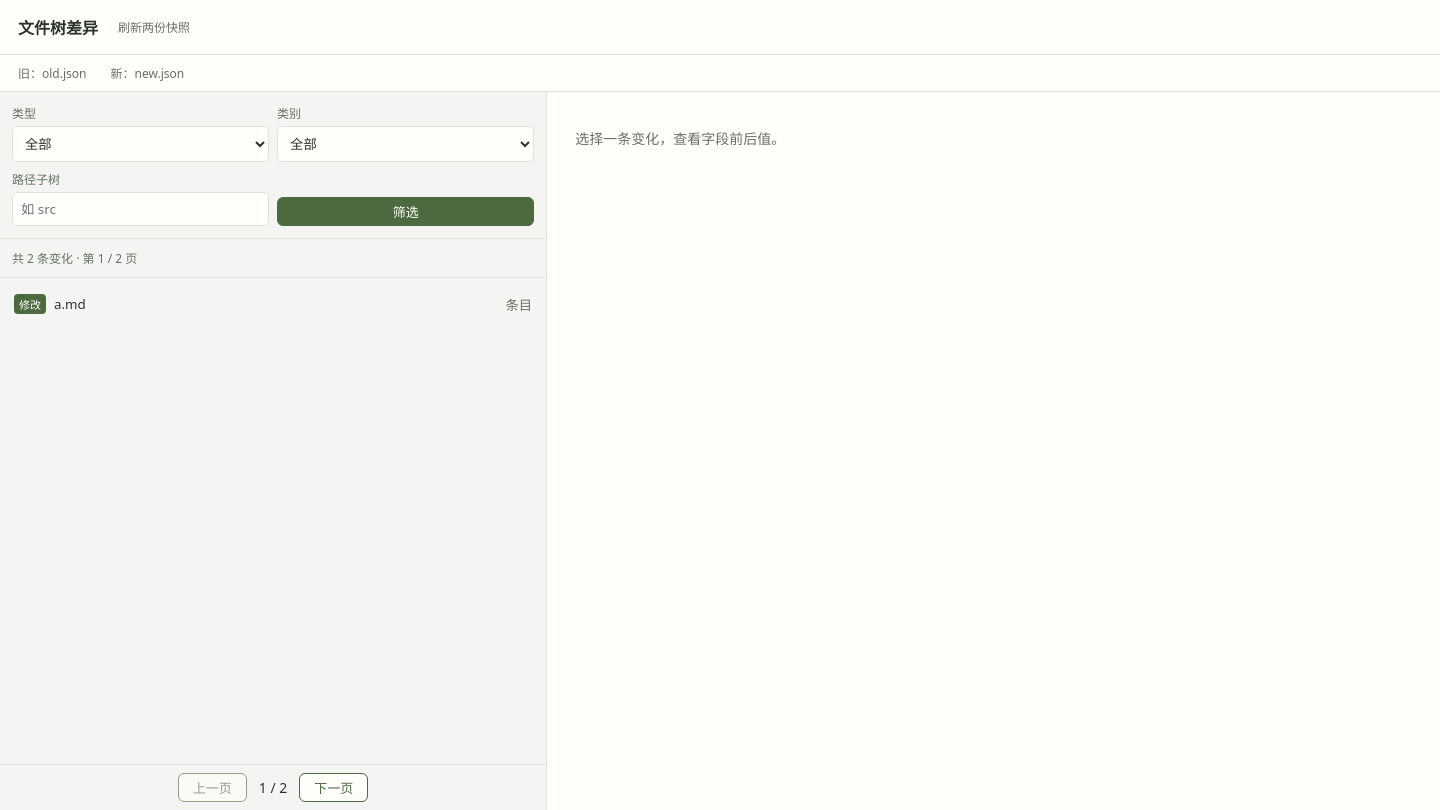
Test case: DiffViewer › does not leave stale rows visible when a filtered request fails
Expected: the button "修改 a.md 条目" is shown, [6,284,540,324]
Select "新增" in the dropdown named "变化类型" at (141, 144), box [12,126,269,162]
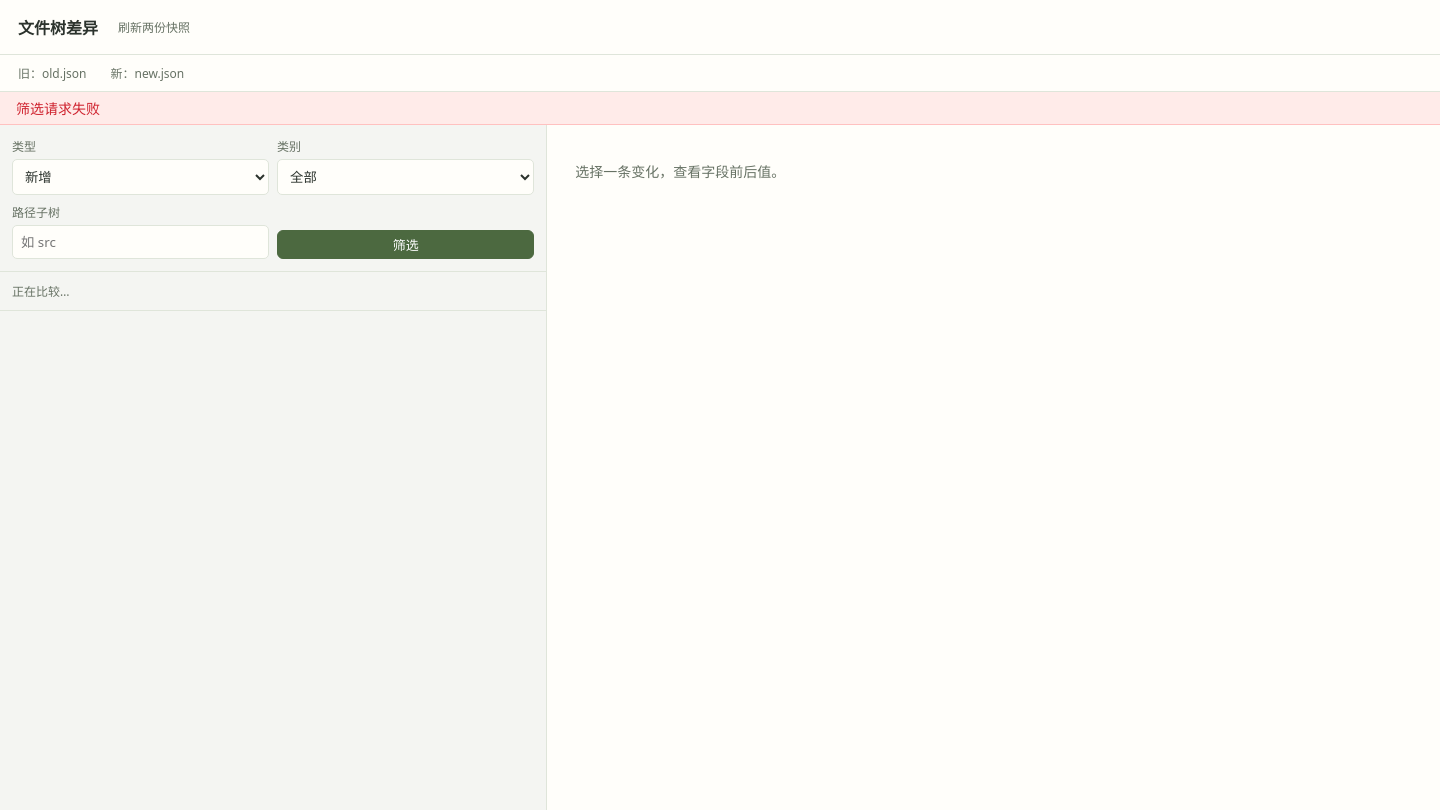
Now the message reads "筛选请求失败", box [16,99,100,118]
Now the button "a.md" is gone
